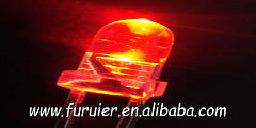LED: (57, 16, 177, 102)
